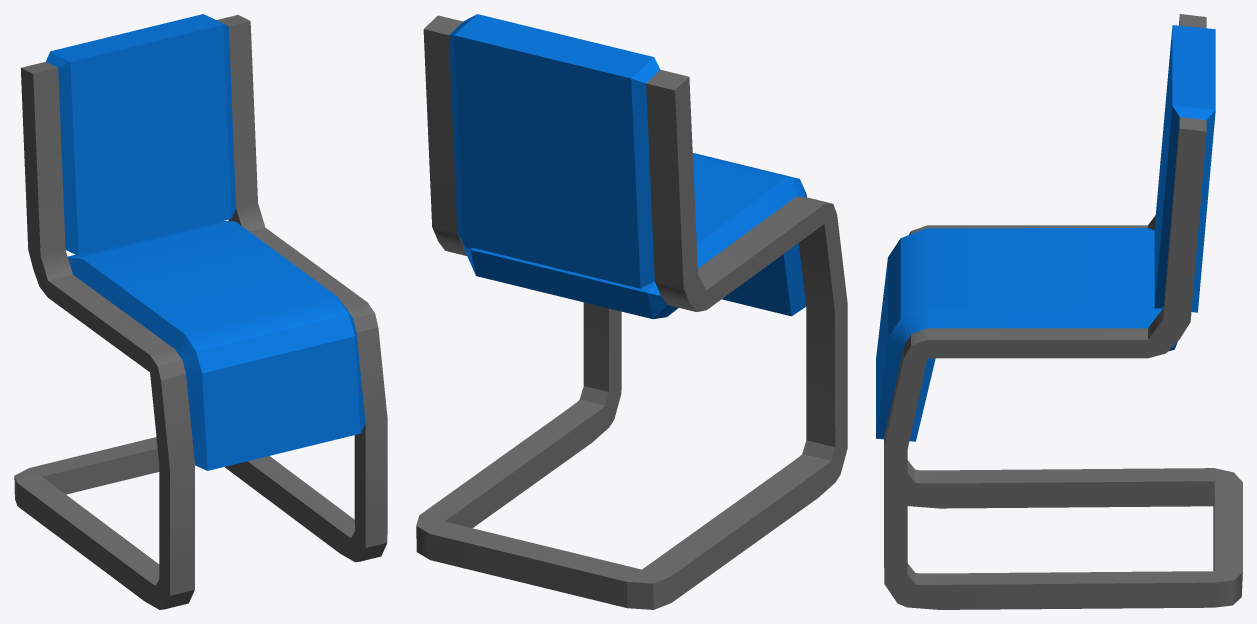
Rendered from Chaise01.fbx.
The picture shows the model from 3 angles, left to right: view 1: azimuth 30°, elevation 25°; view 2: azimuth 150°, elevation 25°; view 3: azimuth 270°, elevation 25°; orthographic projection. The views are drawn at different scales.
Parts seen in each view (by area): view 1: pCube1; view 2: pCube1; view 3: pCube1.
Part boxes in pixels (<box>): pCube1: <box>14,14,387,609</box>; pCube1: <box>416,14,847,609</box>; pCube1: <box>876,14,1242,609</box>.
Size of the model in its own units: 2.51 by 4.99 by 3.4.
